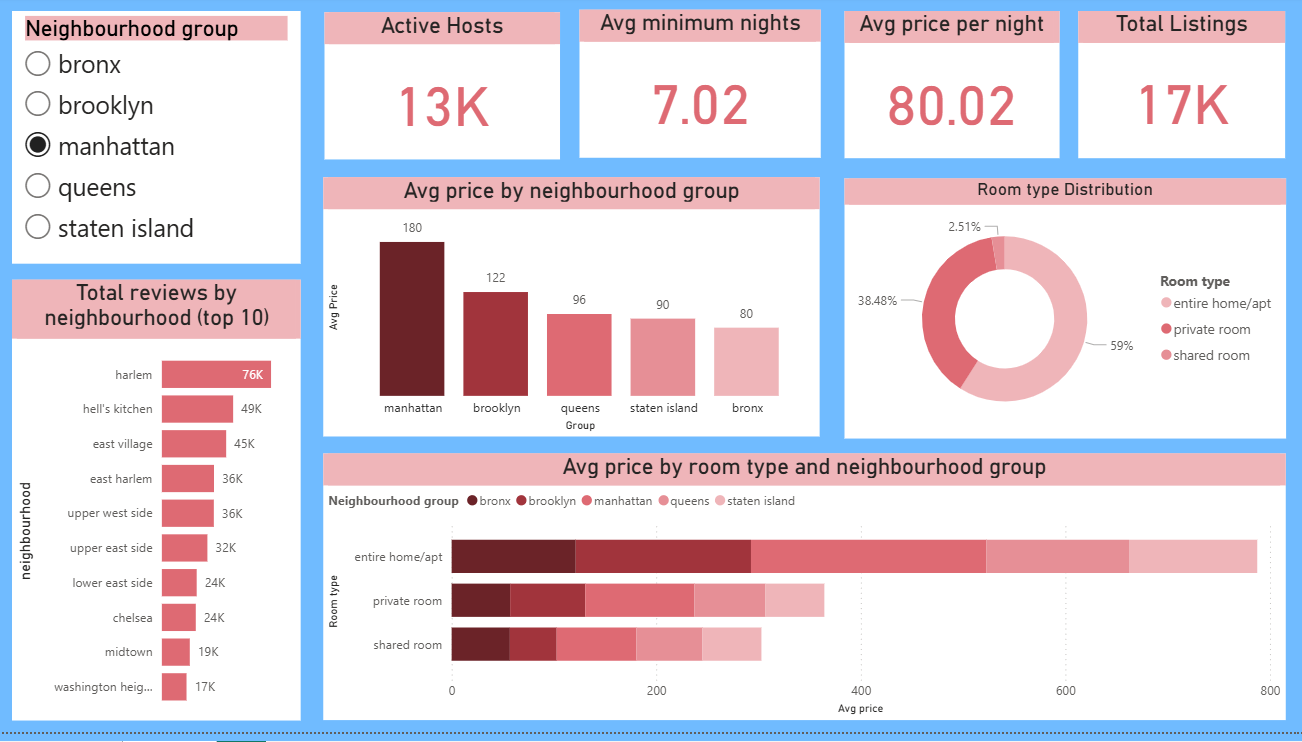

This screenshot's page, from the dashboard's own definition file:
{"tool":"powerbi","page":{"name":"Page 1","canvas":[1280,720],"ordinal":0},"visuals":[{"type":"card","title":"Active Hosts","fields":{"Values":["airbnb.active_hosts"]},"box":[320,15.3,230,144],"z":0},{"type":"card","title":"Total Listings","fields":{"Values":["airbnb.total_listings"]},"box":[1057.5,15,202.5,143.8],"z":1000},{"type":"card","title":"Avg price per night","fields":{"Values":["airbnb.avg_price_per_night"]},"box":[829.2,15,210,144.2],"z":2000},{"type":"card","title":"Avg minimum nights","fields":{"Values":["airbnb.avg_min_nights"]},"box":[570,13.8,236.2,145],"z":3000},{"type":"donutChart","title":"Room type Distribution","fields":{"Category":["airbnb.room_type"],"Y":["Sum(airbnb.id)"]},"box":[829.2,178.3,431.7,254.2],"z":4000},{"type":"clusteredColumnChart","title":"Avg price by neighbourhood group","fields":{"Category":["airbnb.neighbourhood_group"],"Y":["airbnb.avg_price"]},"box":[319.7,177,485.8,253.9],"z":5000},{"type":"slicer","fields":{"Values":["airbnb.neighbourhood_group"]},"box":[15.1,15.1,282.7,247],"z":6000},{"type":"barChart","title":"Avg price by room type and neighbourhood group","fields":{"Y":["airbnb.avg_price"],"Category":["airbnb.room_type"],"Series":["airbnb.neighbourhood_group"]},"box":[319.7,447.3,941.3,260.7],"z":7000},{"type":"clusteredBarChart","title":"Total reviews by neighbourhood (top 10)","fields":{"Y":["airbnb.total_reviews"],"Category":["airbnb.neighbourhood"]},"box":[15.1,277.2,282.7,430.9],"z":8000}]}

Visuals, with their boxes in screenshot pixels (x1, y1, x2, y2), scaled from the page's 1280x720 canvas onto the 1302x742 screenshot:
"Active Hosts" card: <region>326, 16, 559, 164</region>
"Total Listings" card: <region>1076, 15, 1282, 164</region>
"Avg price per night" card: <region>843, 15, 1057, 164</region>
"Avg minimum nights" card: <region>580, 14, 820, 164</region>
"Room type Distribution" donutChart: <region>843, 184, 1283, 446</region>
"Avg price by neighbourhood group" clusteredColumnChart: <region>325, 182, 819, 444</region>
slicer - airbnb.neighbourhood_group: <region>15, 16, 303, 270</region>
"Avg price by room type and neighbourhood group" barChart: <region>325, 461, 1283, 730</region>
"Total reviews by neighbourhood (top 10)" clusteredBarChart: <region>15, 286, 303, 730</region>
